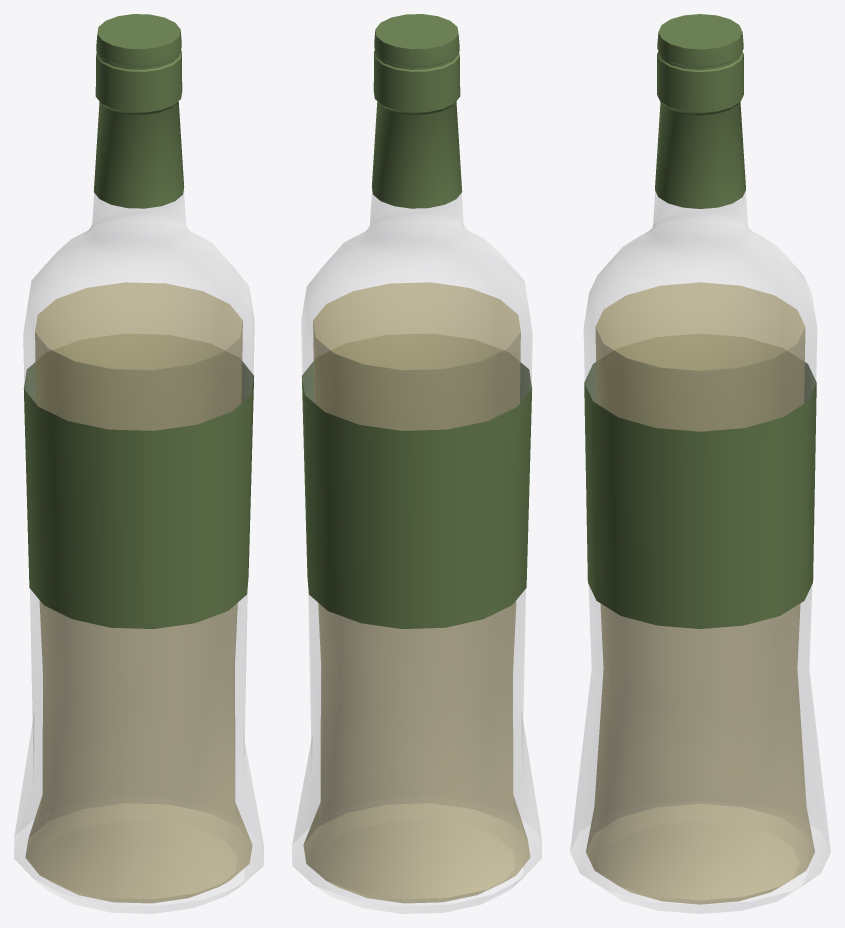
File: SM_Oilbottle.fbx
3 views of the same model, side by side, from view 1: azimuth 30°, elevation 25°; view 2: azimuth 150°, elevation 25°; view 3: azimuth 270°, elevation 25° (orthographic).
Parts seen in each view (by area): view 1: Alcohol_ao62w; view 2: Alcohol_ao62w; view 3: Alcohol_ao62w.
Part boxes in pixels (x1,y1,x2,y2): Alcohol_ao62w: (14,14,263,913); Alcohol_ao62w: (292,14,541,913); Alcohol_ao62w: (570,14,830,913).
Bounding box in the file's own units: 9.98 × 37.53 × 10.6.
